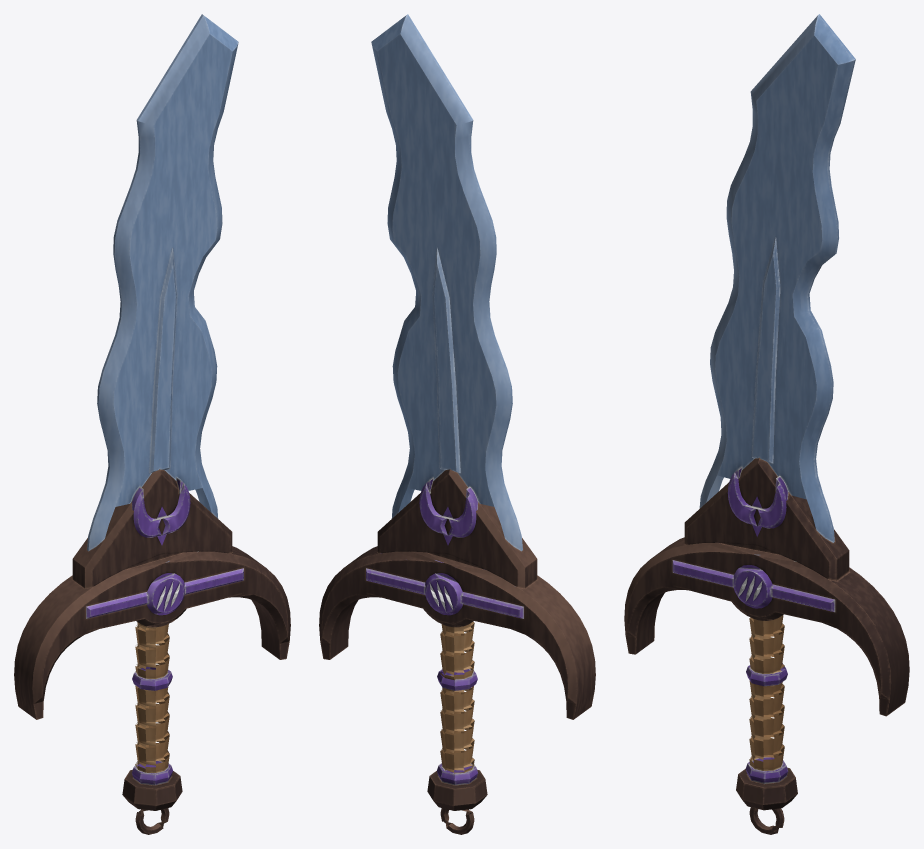
File: Behemoth Tusk.fbx
The picture shows the model from 3 angles, left to right: view 1: azimuth 30°, elevation 25°; view 2: azimuth 150°, elevation 25°; view 3: azimuth 330°, elevation 25°; orthographic projection. The views are drawn at different scales.
Visible parts, largest first — view 1: Behemoth Tusk_Body; view 2: Behemoth Tusk_Body; view 3: Behemoth Tusk_Body.
Boxes of the visible parts, bbox=[...] form: Behemoth Tusk_Body: bbox=[14, 14, 290, 834]; Behemoth Tusk_Body: bbox=[319, 14, 595, 834]; Behemoth Tusk_Body: bbox=[624, 14, 909, 834].
Size of the model in its own units: 1.95 by 5.83 by 0.45.
